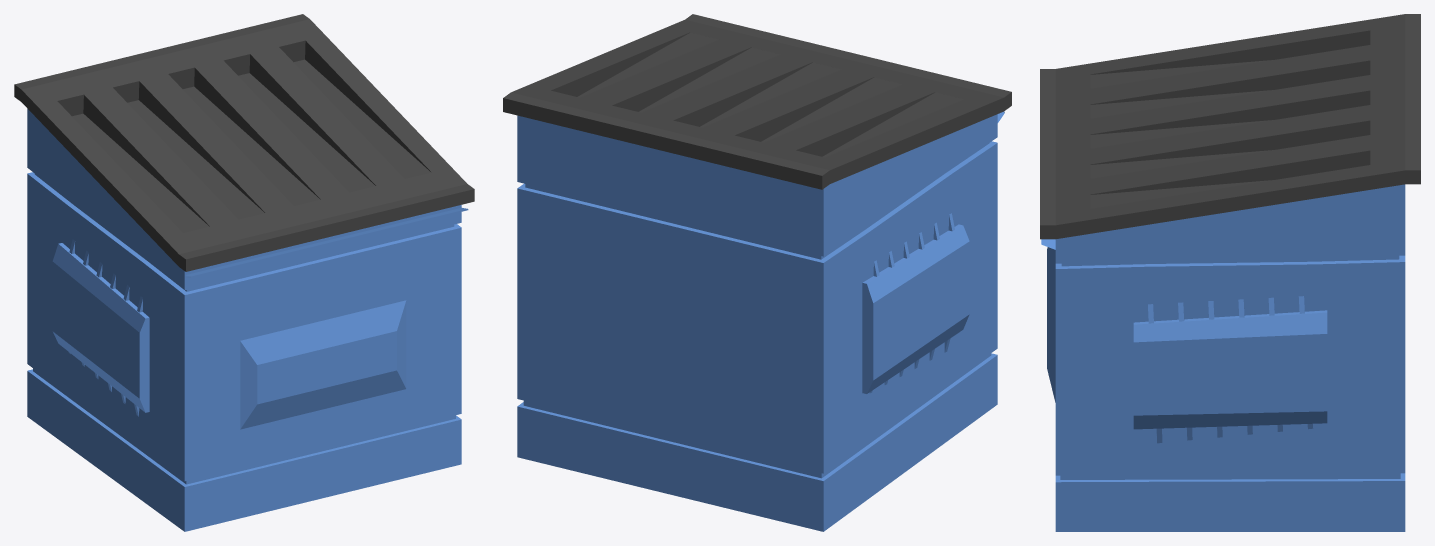
The model's file is trashbox1.fbx.
The picture shows the model from 3 angles, left to right: view 1: azimuth 30°, elevation 25°; view 2: azimuth 150°, elevation 25°; view 3: azimuth 270°, elevation 25°; orthographic projection. The views are drawn at different scales.
Visible parts, largest first — view 1: Cube.002; view 2: Cube.002; view 3: Cube.002.
Boxes of the visible parts, x1=… form: Cube.002: x1=14, y1=14, x2=474, y2=531; Cube.002: x1=503, y1=14, x2=1011, y2=531; Cube.002: x1=1040, y1=14, x2=1420, y2=531.
Size of the model in its own units: 197 by 208 by 197.
